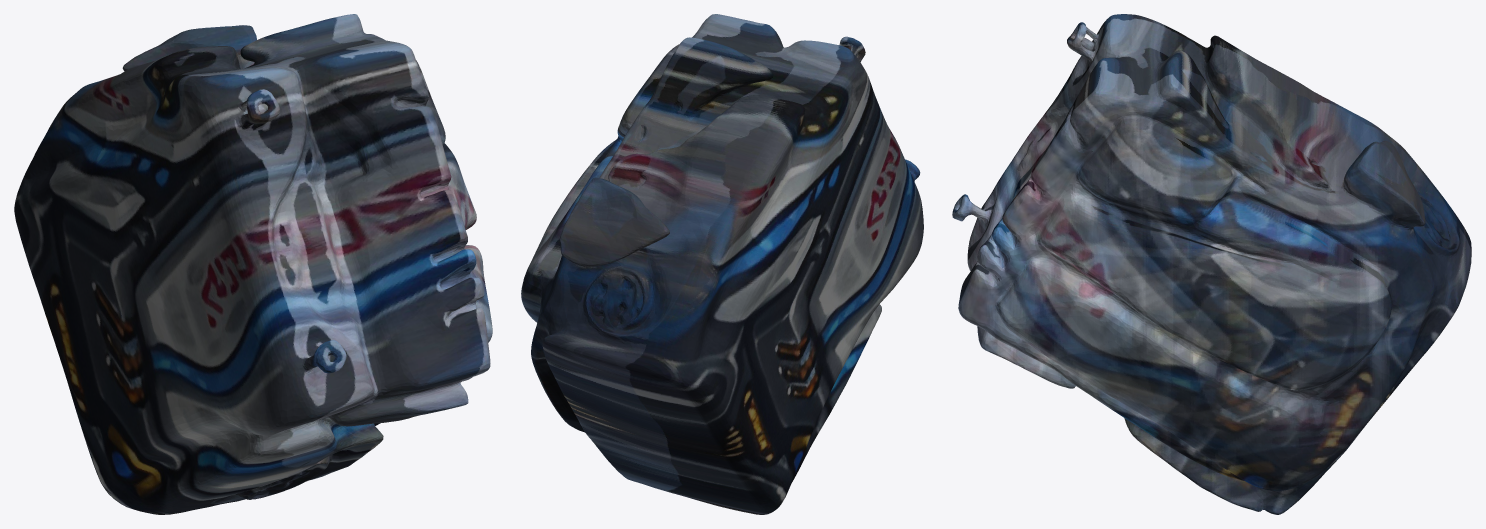
The model's file is galactic_megadrive.glb.
3 views of the same model, side by side, from view 1: azimuth 30°, elevation 25°; view 2: azimuth 150°, elevation 25°; view 3: azimuth 270°, elevation 25° (orthographic). The views are drawn at different scales.
Size of the model in its own units: 1.08 by 1.85 by 2.
Materials: 1 (1 with a texture image).
